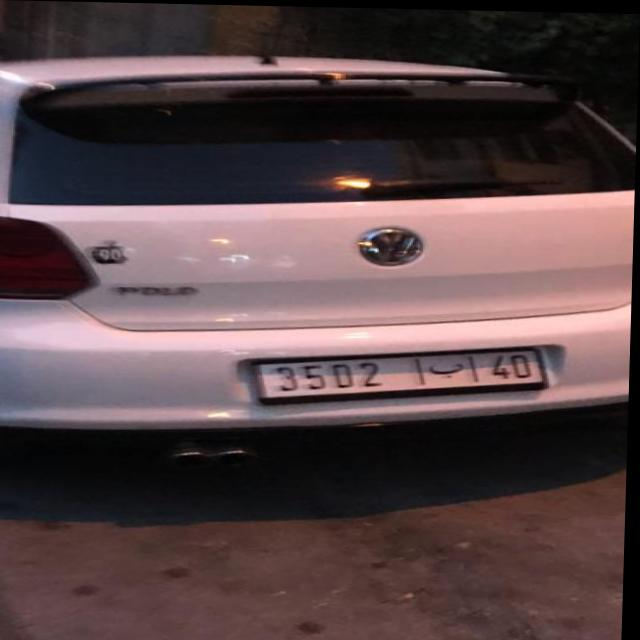License-Plate: (262, 347, 547, 402)
